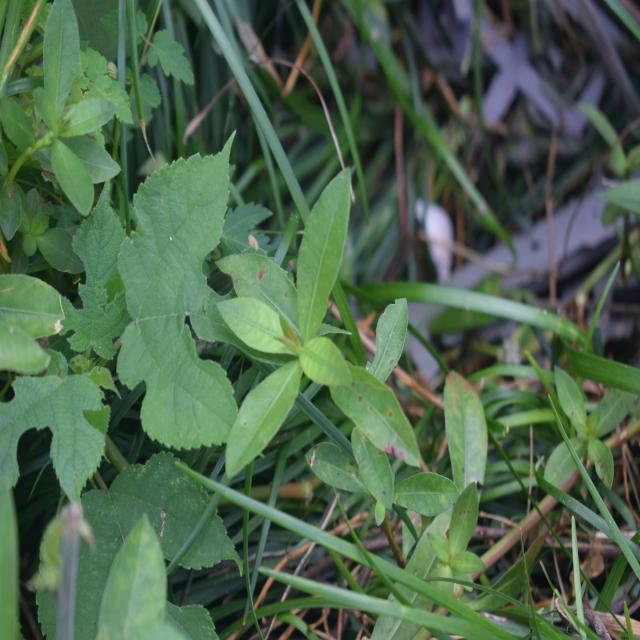Alligatorweed: (221, 179, 398, 462)
